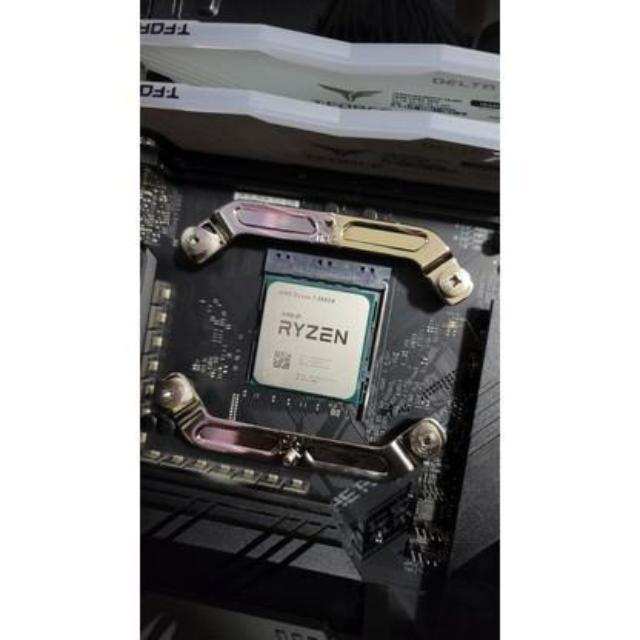CPU: (258, 282, 364, 400)
